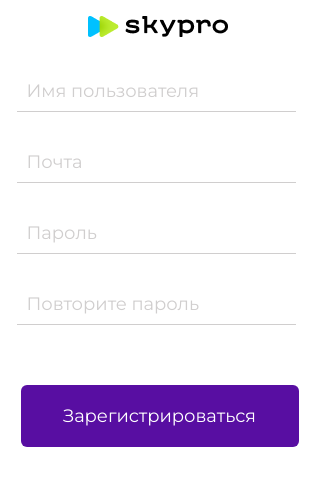
Signup component › should display error when email field is empty on submit
Type "Ann" into the field with placeholder "Имя пользователя".
click(156, 91); type("Ann")  # box 16,70 -> 296,112
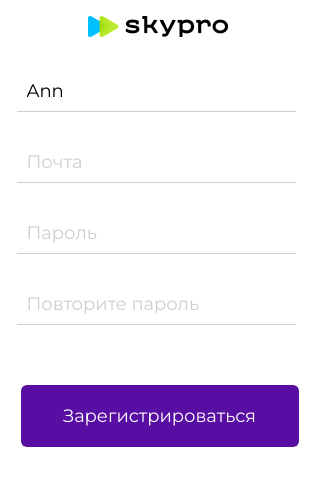
Click the link "Зарегистрироваться".
click(160, 416)  # box 63,404 -> 256,426
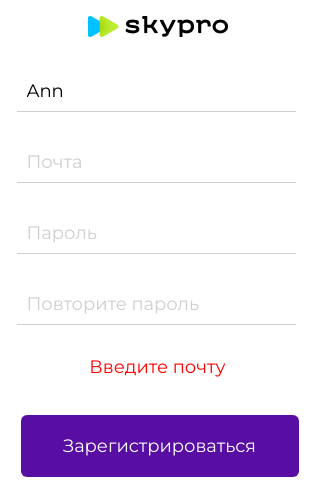
Check: the text "Введите почту" is shown, box 89,354 -> 226,378
